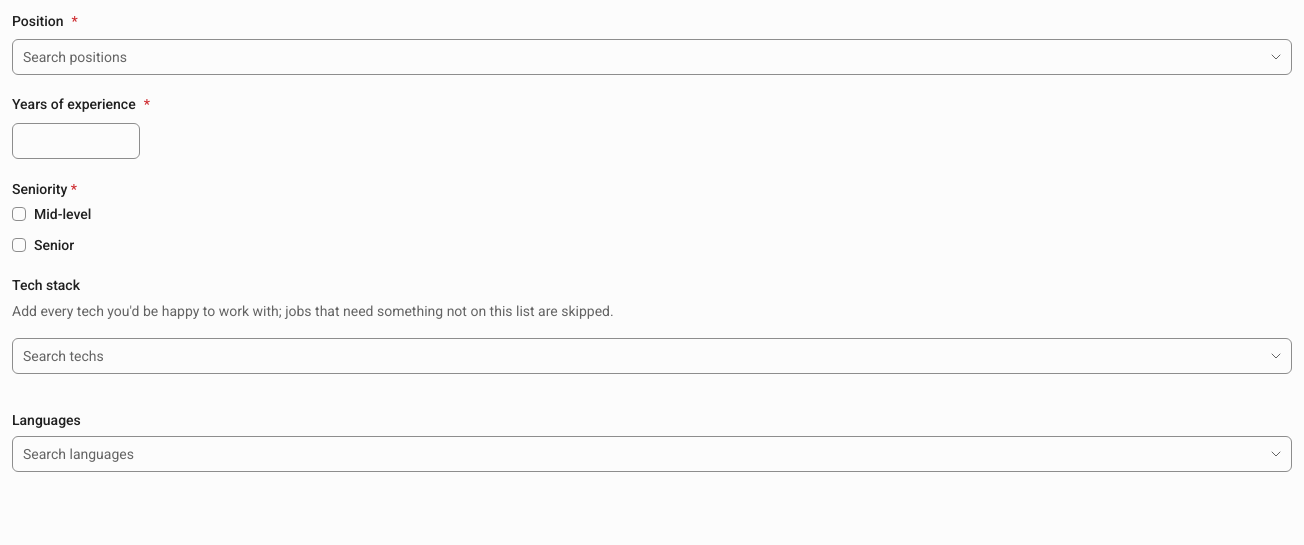
JobForm › picking a tech adds an unrated row
This screenshot has width=1304, height=545.
Type "postg" into the dropdown named "Add a tech".
click(638, 356); type("postg")  # box x1=13 y1=338 x2=1264 y2=374
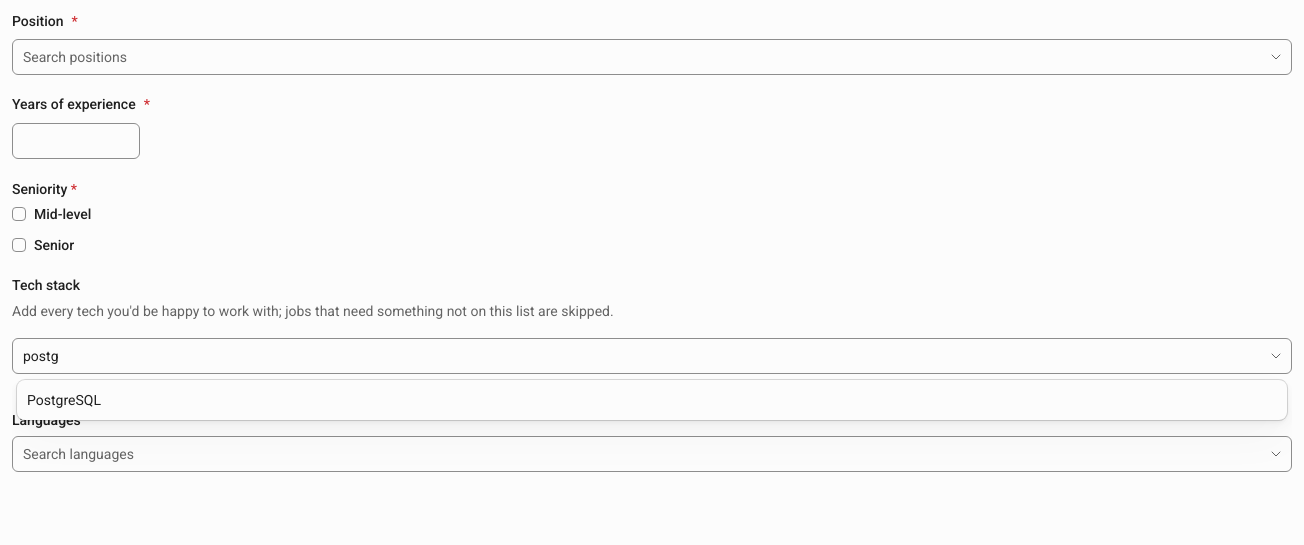
Click the option "PostgreSQL".
click(64, 400)  # box x1=27 y1=392 x2=101 y2=408
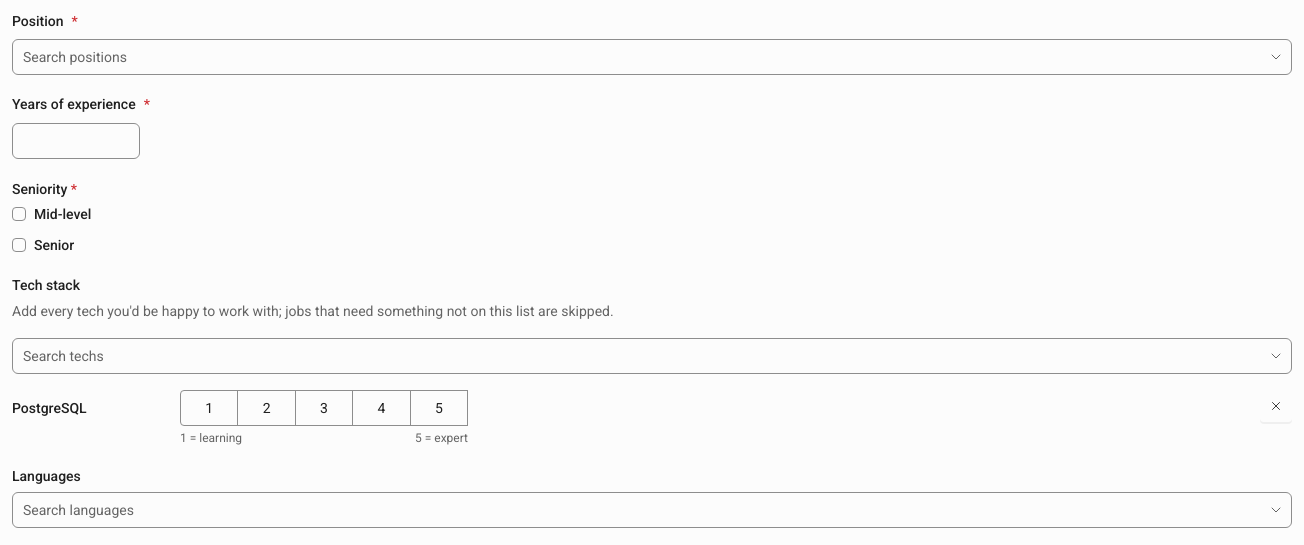
Check: the button named "Remove PostgreSQL" is shown, box x1=1260 y1=390 x2=1292 y2=422
